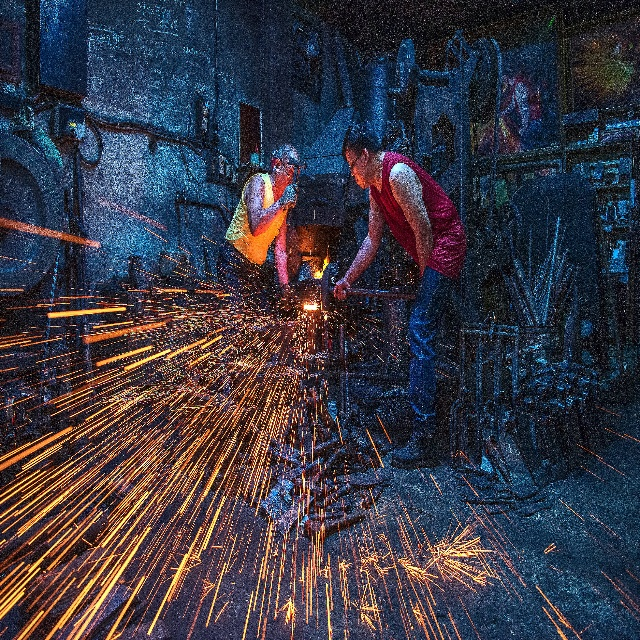Gafas: (347, 153, 363, 172), (280, 159, 292, 181)
Sin_guantes: (282, 183, 299, 208), (333, 278, 351, 298)
